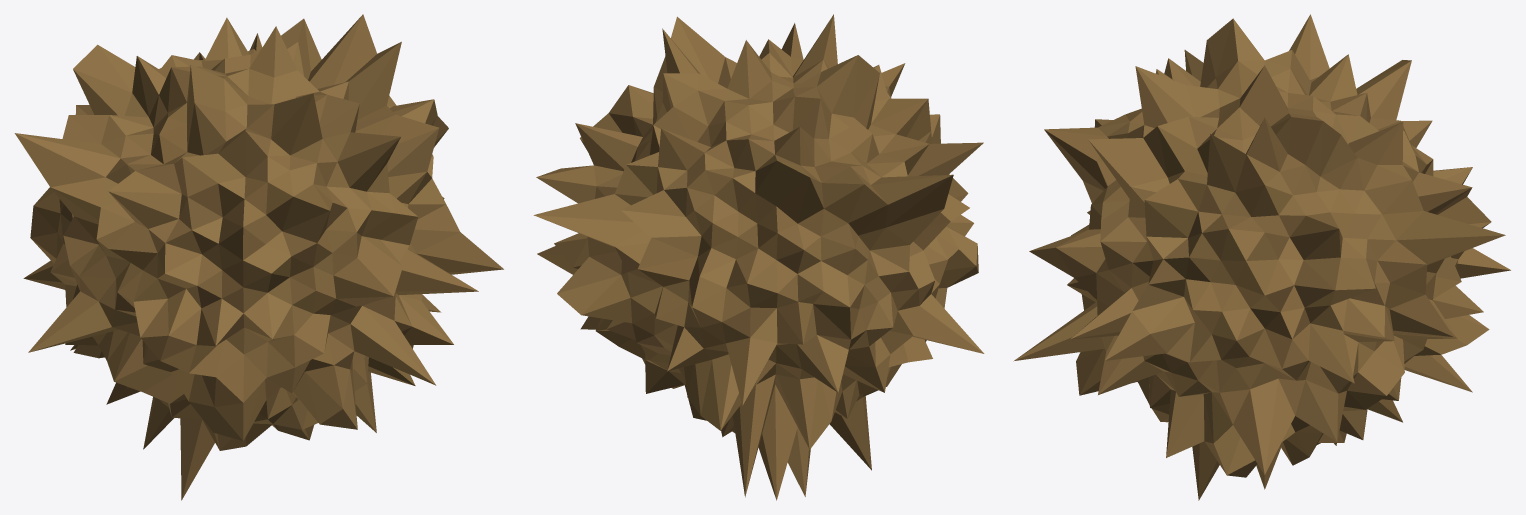
The model's file is tinker_asteroid_gen1.glb.
The picture shows the model from 3 angles, left to right: view 1: azimuth 30°, elevation 25°; view 2: azimuth 150°, elevation 25°; view 3: azimuth 270°, elevation 25°; orthographic projection. The views are drawn at different scales.
Parts seen in each view (by area): view 1: Mesh_Mesh_head_geo.001_lambert2SG.001; view 2: Mesh_Mesh_head_geo.001_lambert2SG.001; view 3: Mesh_Mesh_head_geo.001_lambert2SG.001.
Part boxes in pixels (box(x1,y1,x2,y2)): Mesh_Mesh_head_geo.001_lambert2SG.001: box(14, 14, 503, 500); Mesh_Mesh_head_geo.001_lambert2SG.001: box(533, 14, 984, 500); Mesh_Mesh_head_geo.001_lambert2SG.001: box(1013, 14, 1510, 500).
Bounding box in the file's own units: 31.89 × 31.41 × 32.49.
